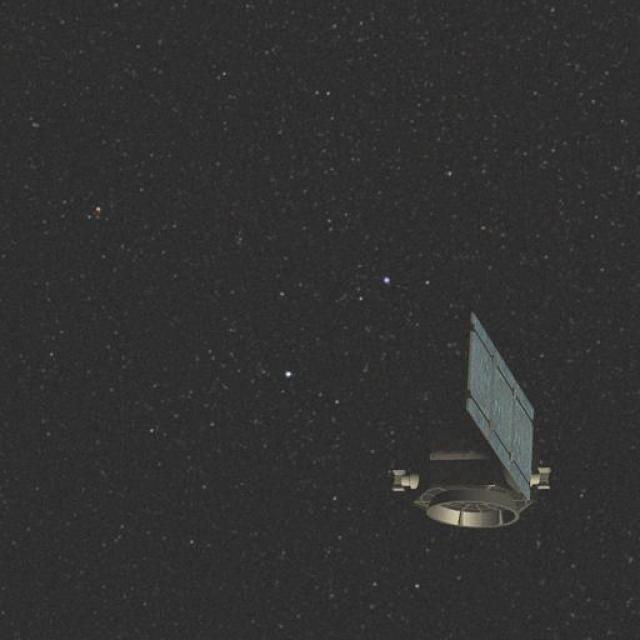earth_observation_sat_1: (378, 318, 579, 541)
